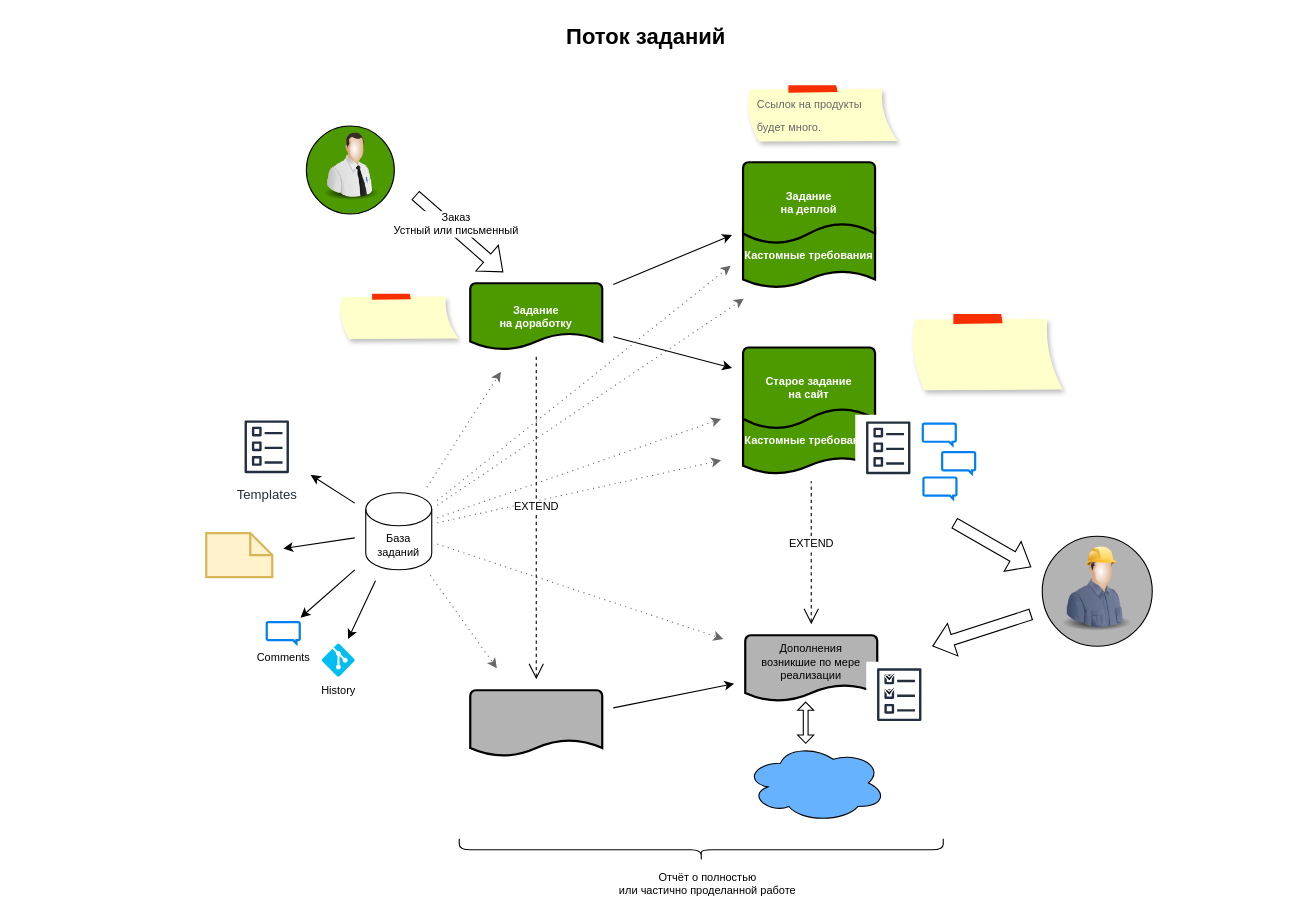
Image size: 1291x915. Some labels were removed from this diagram. The centre of each missing label's shape, as x and y in pixels:
"Notes" goes at pixel 239 554.
"Делализация задания Чеклист с Roadmap" goes at pixel 536 723.
"Дока по старой версии продукта." goes at pixel 988 354.
"Несколько слов про пользу" goes at pixel 399 317.
"Сайт" goes at pixel 815 782.
